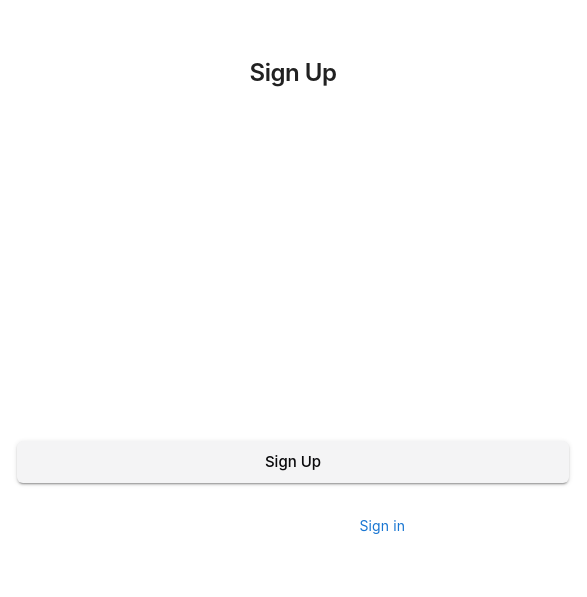
Test case: RegisterPage › shows validation errors on empty submit
Click the button "Sign Up" at [293, 462], box [17,441,569,484]
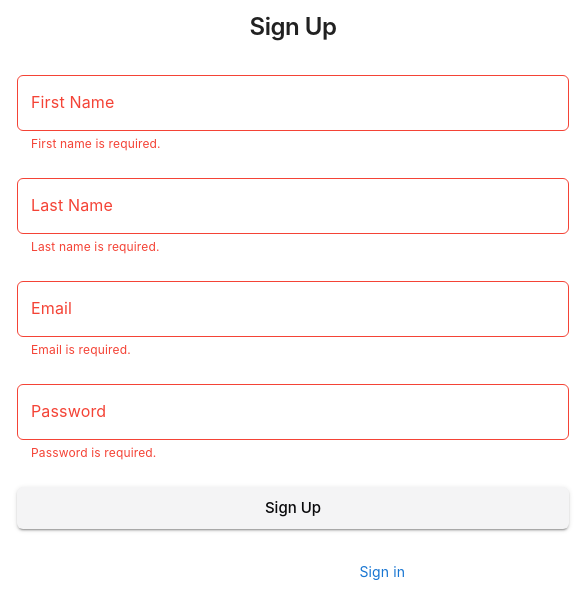
expect the text "First name is required." is shown: met, box [31,136,161,151]
expect the text "Last name is required." is shown: met, box [31,239,160,254]
expect the text "Email is required." is shown: met, box [31,342,131,357]
